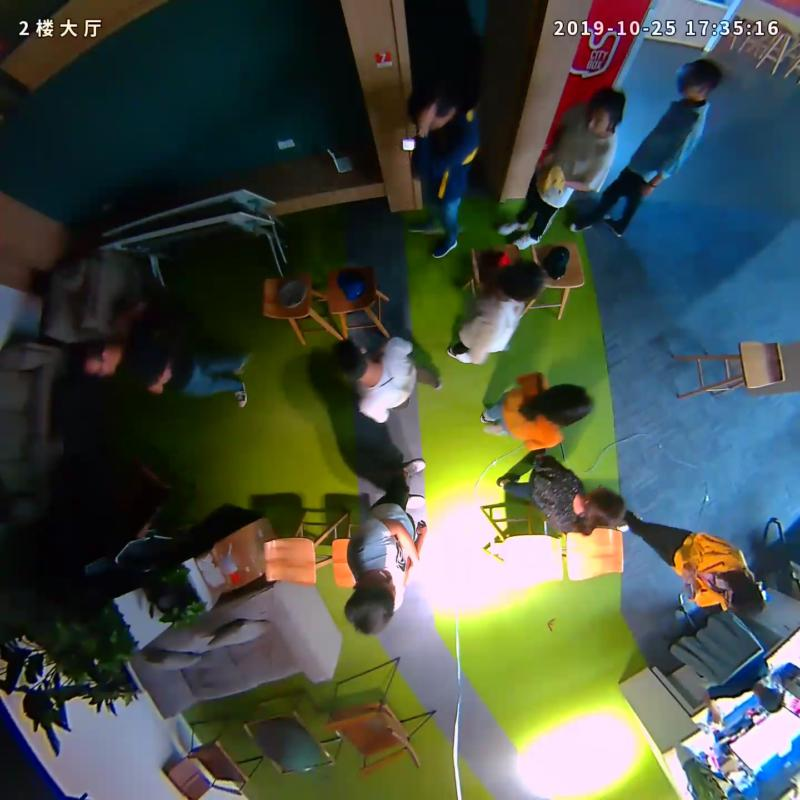head: (346, 568, 396, 636), (405, 82, 456, 135), (538, 384, 594, 427), (586, 85, 627, 140), (497, 258, 545, 304), (674, 59, 722, 101), (72, 340, 119, 382), (585, 485, 627, 529), (720, 575, 765, 616), (329, 339, 367, 381)
